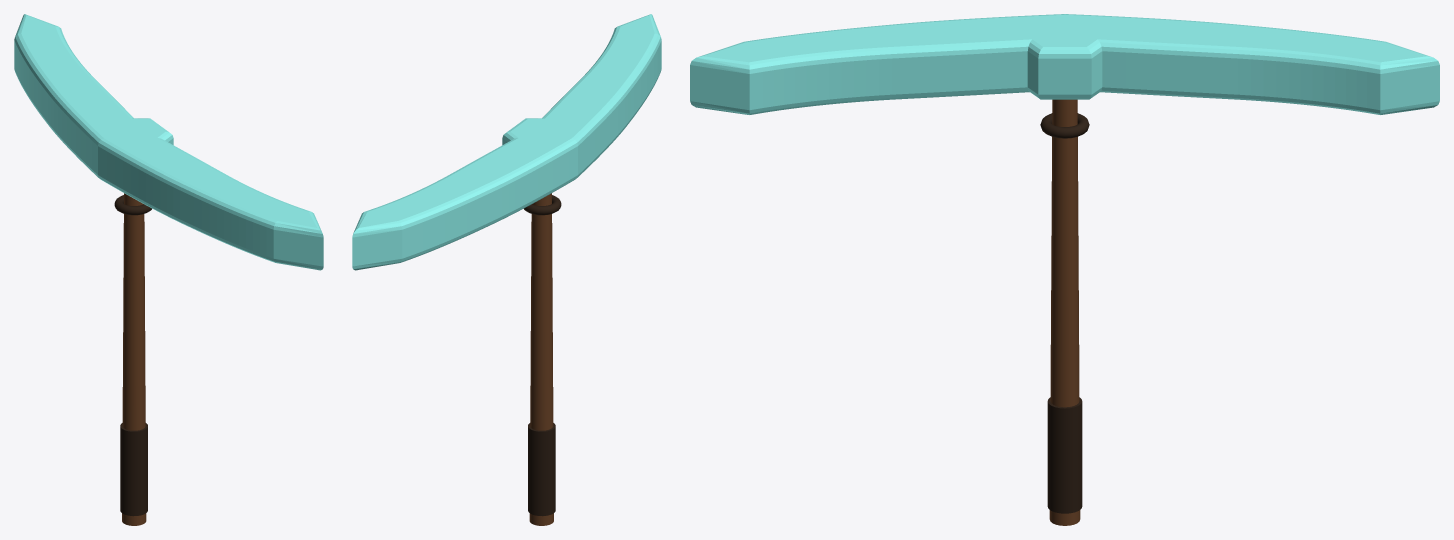
The model's file is diamond_pickaxe.glb.
3 views of the same model, side by side, from view 1: azimuth 30°, elevation 25°; view 2: azimuth 150°, elevation 25°; view 3: azimuth 270°, elevation 25° (orthographic). The views are drawn at different scales.
Parts seen in each view (by area): view 1: head, handle, gripWrap, binding0; view 2: head, handle, gripWrap, binding0; view 3: head, handle, gripWrap.
Part boxes in pixels (x1,y1,x2,y2): head: [14, 14, 323, 270]; handle: [122, 193, 146, 525]; gripWrap: [120, 423, 147, 516]; binding0: [114, 195, 151, 215]; head: [352, 14, 661, 270]; handle: [529, 193, 553, 525]; gripWrap: [528, 423, 555, 516]; binding0: [524, 195, 561, 215]; head: [690, 14, 1439, 114]; handle: [1049, 99, 1080, 525]; gripWrap: [1047, 397, 1082, 513].
Size of the model in its own units: 0.1798 by 0.7395 by 1.03.
